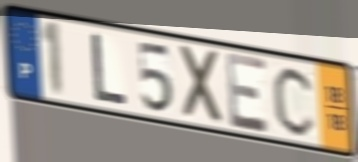1: (39, 19, 63, 100)
5: (136, 38, 176, 114)
C: (271, 63, 318, 139)
E: (224, 49, 272, 137)
L: (90, 30, 130, 108)
X: (177, 41, 226, 128)
